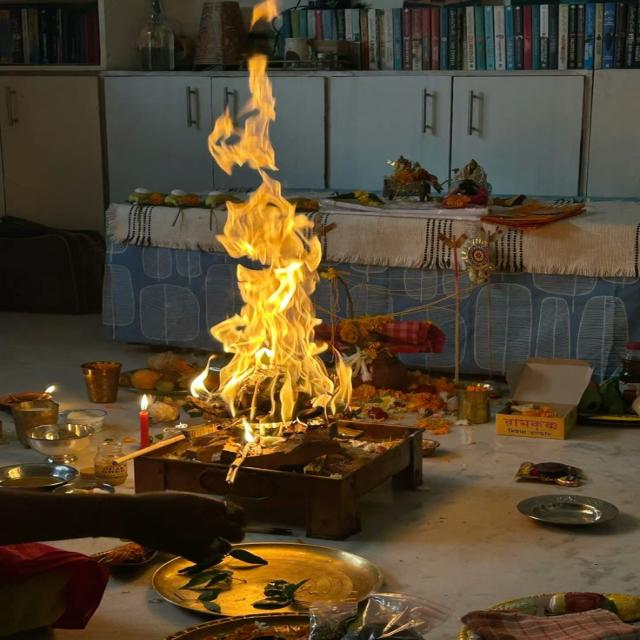fire: (190, 2, 353, 444)
